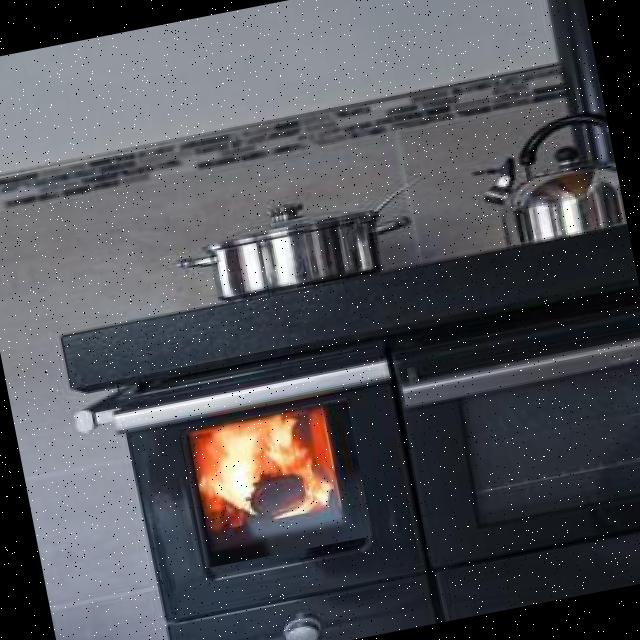fire: (180, 398, 373, 568)
